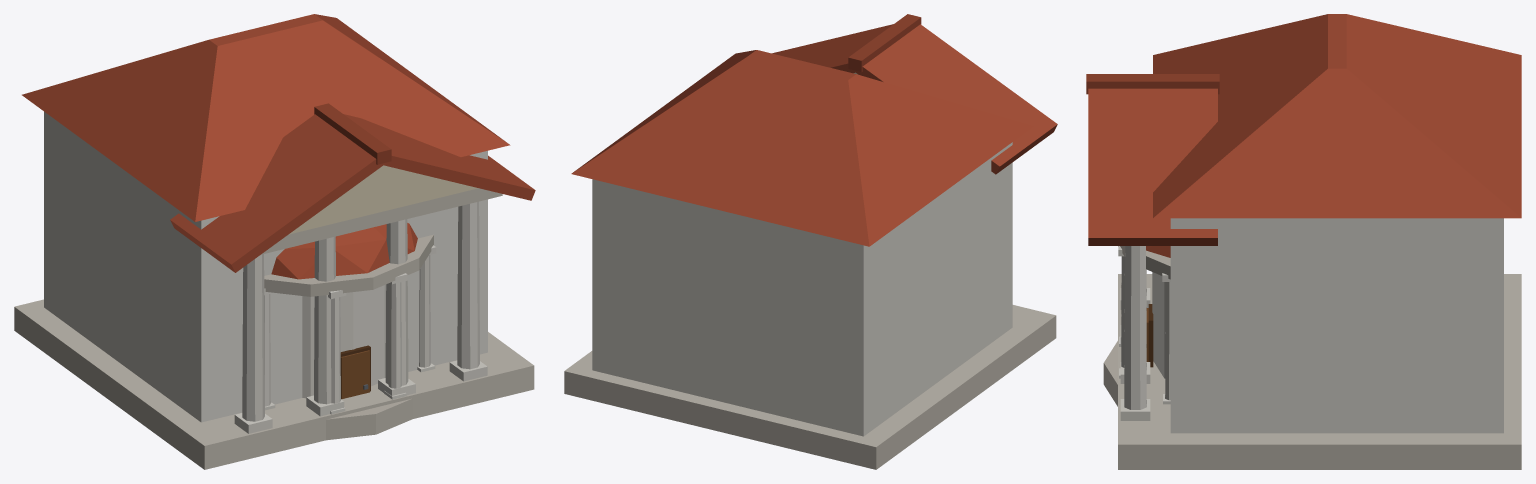
File: angel_hall_broken.glb
The picture shows the model from 3 angles, left to right: view 1: azimuth 30°, elevation 25°; view 2: azimuth 150°, elevation 25°; view 3: azimuth 270°, elevation 25°; orthographic projection. The views are drawn at different scales.
Parts seen in each view (by area): view 1: angel_hall_piece2, angel_hall_piece5, angel_hall_piece3, angel_hall_piece1, angel_hall_piece6, angel_hall_piece9, angel_hall_piece10, angel_hall_piece4, angel_hall_piece0; view 2: angel_hall_piece4, angel_hall_piece1, angel_hall_piece5, angel_hall_piece8, angel_hall_piece11, angel_hall_piece2, angel_hall_piece7, angel_hall_piece6, angel_hall_piece9, angel_hall_piece0, angel_hall_piece3; view 3: angel_hall_piece7, angel_hall_piece3, angel_hall_piece10, angel_hall_piece6, angel_hall_piece8, angel_hall_piece9, angel_hall_piece4, angel_hall_piece2, angel_hall_piece11, angel_hall_piece5, angel_hall_piece1.
Boxes of the visible parts, x1,y1,x2,y2 form: angel_hall_piece2: (164,97,468,469); angel_hall_piece5: (14,219,210,461); angel_hall_piece3: (290,14,535,393); angel_hall_piece1: (22,81,201,235); angel_hall_piece6: (283,70,514,397); angel_hall_piece9: (183,14,352,146); angel_hall_piece10: (414,280,506,405); angel_hall_piece4: (67,48,190,95); angel_hall_piece0: (380,275,457,383); angel_hall_piece4: (673,101,900,439); angel_hall_piece1: (751,97,1003,447); angel_hall_piece5: (785,166,1045,469); angel_hall_piece8: (634,86,878,262); angel_hall_piece11: (572,251,727,433); angel_hall_piece2: (905,29,1057,345); angel_hall_piece7: (564,91,692,395); angel_hall_piece6: (825,14,927,88); angel_hall_piece9: (686,57,909,111); angel_hall_piece0: (627,192,702,340); angel_hall_piece3: (640,39,831,123); angel_hall_piece7: (1271,137,1521,469); angel_hall_piece3: (1088,52,1371,469); angel_hall_piece10: (1118,306,1392,469); angel_hall_piece6: (1086,64,1284,430); angel_hall_piece8: (1354,16,1521,183); angel_hall_piece9: (1219,14,1391,138); angel_hall_piece4: (1374,20,1521,360); angel_hall_piece2: (1103,26,1275,406); angel_hall_piece11: (1152,359,1521,436); angel_hall_piece5: (1149,274,1521,316); angel_hall_piece1: (1480,45,1521,339).
Size of the model in its own units: 2.33 by 2.19 by 2.52.
